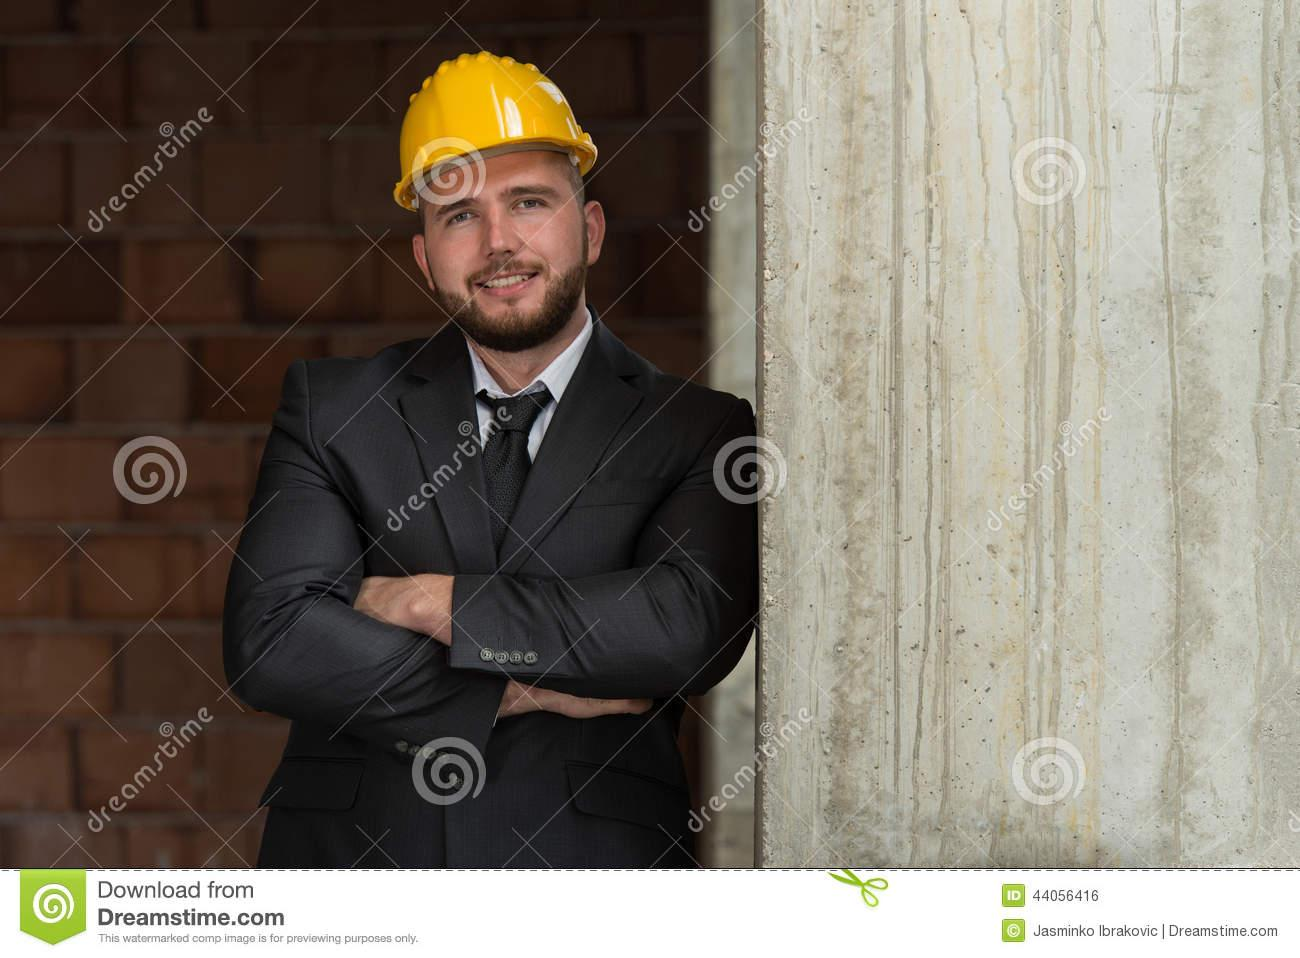helmet: (401, 51, 609, 205)
